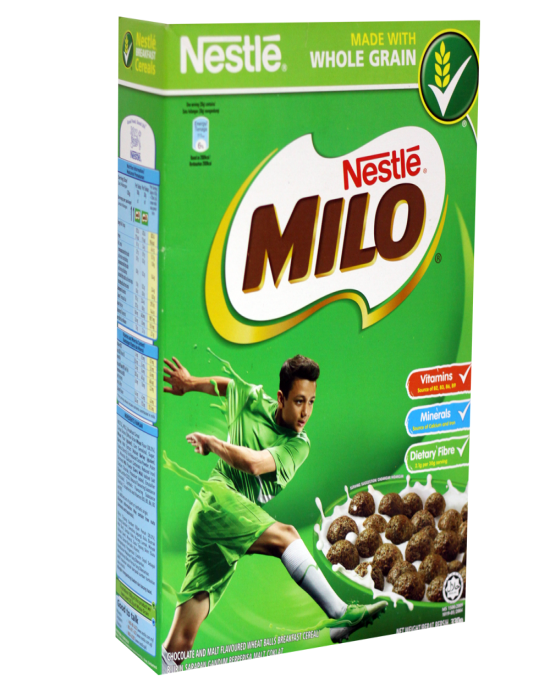Cereal Box: (102, 12, 508, 678)
